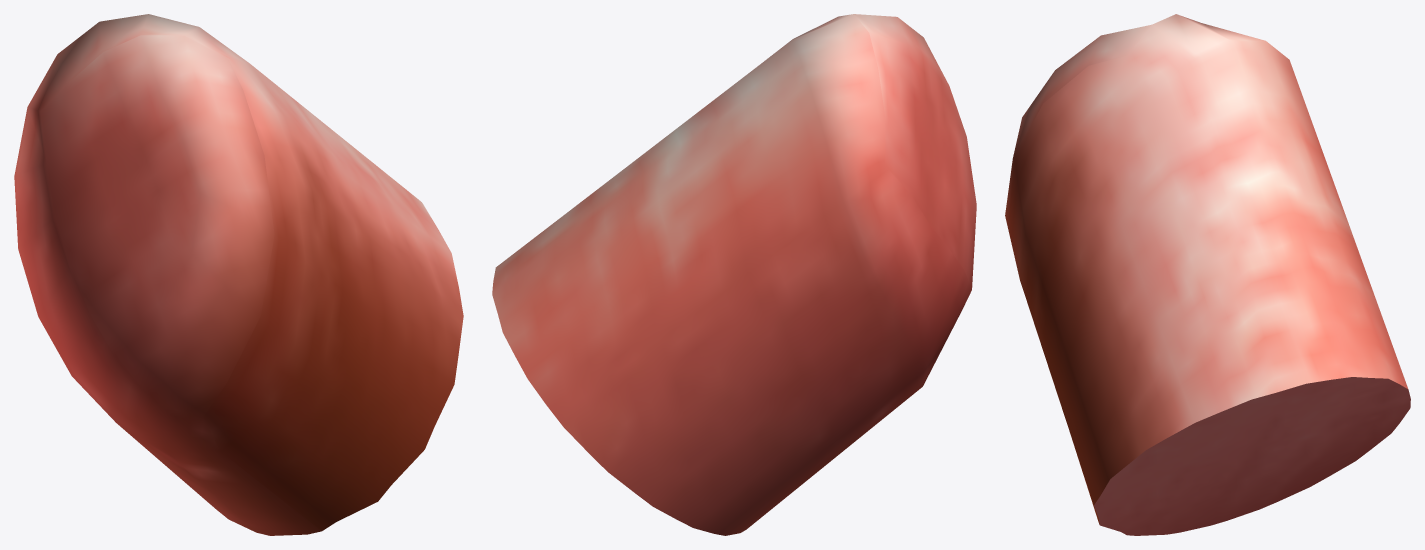
The model's file is SM_HeartPiece_7_.FBX.
3 views of the same model, side by side, from view 1: azimuth 30°, elevation 25°; view 2: azimuth 150°, elevation 25°; view 3: azimuth 270°, elevation 25° (orthographic). The views are drawn at different scales.
Parts seen in each view (by area): view 1: SM_HeartPiece_7_; view 2: SM_HeartPiece_7_; view 3: SM_HeartPiece_7_.
Part boxes in pixels (x1,y1,x2,y2): SM_HeartPiece_7_: (14,14,463,535); SM_HeartPiece_7_: (492,14,976,535); SM_HeartPiece_7_: (1005,14,1410,535).
Bounding box in the file's own units: 68.15 × 67.5 × 86.23.
